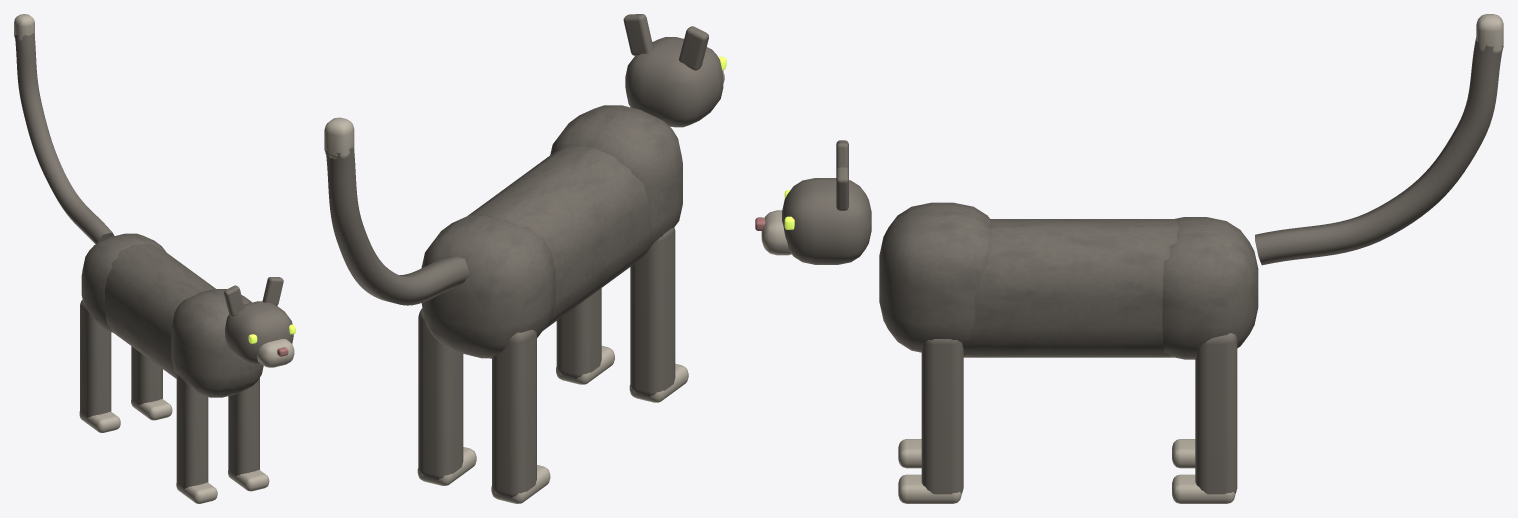
Rendered from kot.glb.
The picture shows the model from 3 angles, left to right: view 1: azimuth 30°, elevation 25°; view 2: azimuth 150°, elevation 25°; view 3: azimuth 270°, elevation 25°; orthographic projection. The views are drawn at different scales.
Visible parts, largest first — view 1: Tulow, OgonMesh, GlowaMesh, LapaFRMesh, LapaBRMesh, LapaFLMesh, LapaBLMesh; view 2: Tulow, GlowaMesh, OgonMesh, LapaBRMesh, LapaFRMesh, LapaBLMesh, LapaFLMesh; view 3: Tulow, OgonMesh, GlowaMesh, LapaBLMesh, LapaFLMesh.
Part boxes in pixels (left/top/right/bottom): Tulow: left=81, top=233, right=263, bottom=397; OgonMesh: left=14, top=14, right=114, bottom=244; GlowaMesh: left=223, top=277, right=295, bottom=367; LapaFRMesh: left=176, top=374, right=217, bottom=503; LapaBRMesh: left=79, top=300, right=120, bottom=432; LapaFLMesh: left=228, top=378, right=269, bottom=491; LapaBLMesh: left=131, top=346, right=172, bottom=420; Tulow: left=421, top=105, right=682, bottom=358; GlowaMesh: left=623, top=14, right=726, bottom=127; OgonMesh: left=324, top=117, right=469, bottom=305; LapaBRMesh: left=491, top=330, right=550, bottom=503; LapaFRMesh: left=629, top=227, right=688, bottom=402; LapaBLMesh: left=417, top=308, right=476, bottom=485; LapaFLMesh: left=556, top=288, right=614, bottom=384; Tulow: left=879, top=202, right=1258, bottom=359; OgonMesh: left=1255, top=14, right=1503, bottom=265; GlowaMesh: left=755, top=140, right=871, bottom=264; LapaBLMesh: left=1172, top=333, right=1237, bottom=503; LapaFLMesh: left=898, top=339, right=963, bottom=503.
Size of the model in its own units: 0.12 by 0.487 by 0.711.
5 materials, 1 textured.
